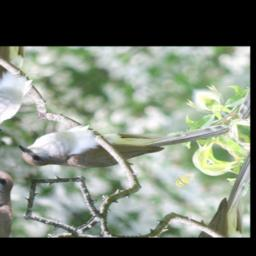Cuckoo: (11, 57, 236, 224)
